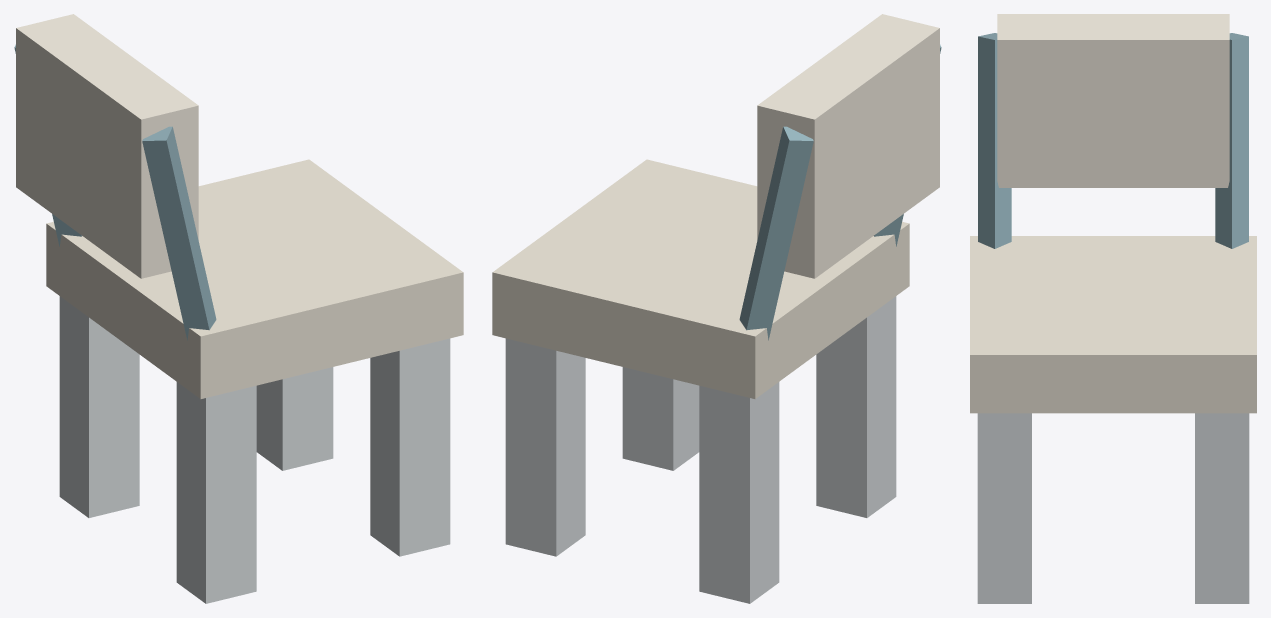
Rendered from prop_chair_v4_ShadowProxy.glb.
3 renders of one model, left to right at view 1: azimuth 30°, elevation 25°; view 2: azimuth 150°, elevation 25°; view 3: azimuth 270°, elevation 25°, orthographic. The views are drawn at different scales.
Visible parts, largest first — view 1: prop_chair_v4_ShadowProxy / Primary assembly; view 2: prop_chair_v4_ShadowProxy / Primary assembly; view 3: prop_chair_v4_ShadowProxy / Primary assembly.
Boxes of the visible parts, box(x1,y1,x2,y2) form: prop_chair_v4_ShadowProxy / Primary assembly: box(14, 14, 463, 603); prop_chair_v4_ShadowProxy / Primary assembly: box(492, 14, 941, 603); prop_chair_v4_ShadowProxy / Primary assembly: box(970, 14, 1256, 603).
Size of the model in its own units: 0.6682 by 1.01 by 0.58.
